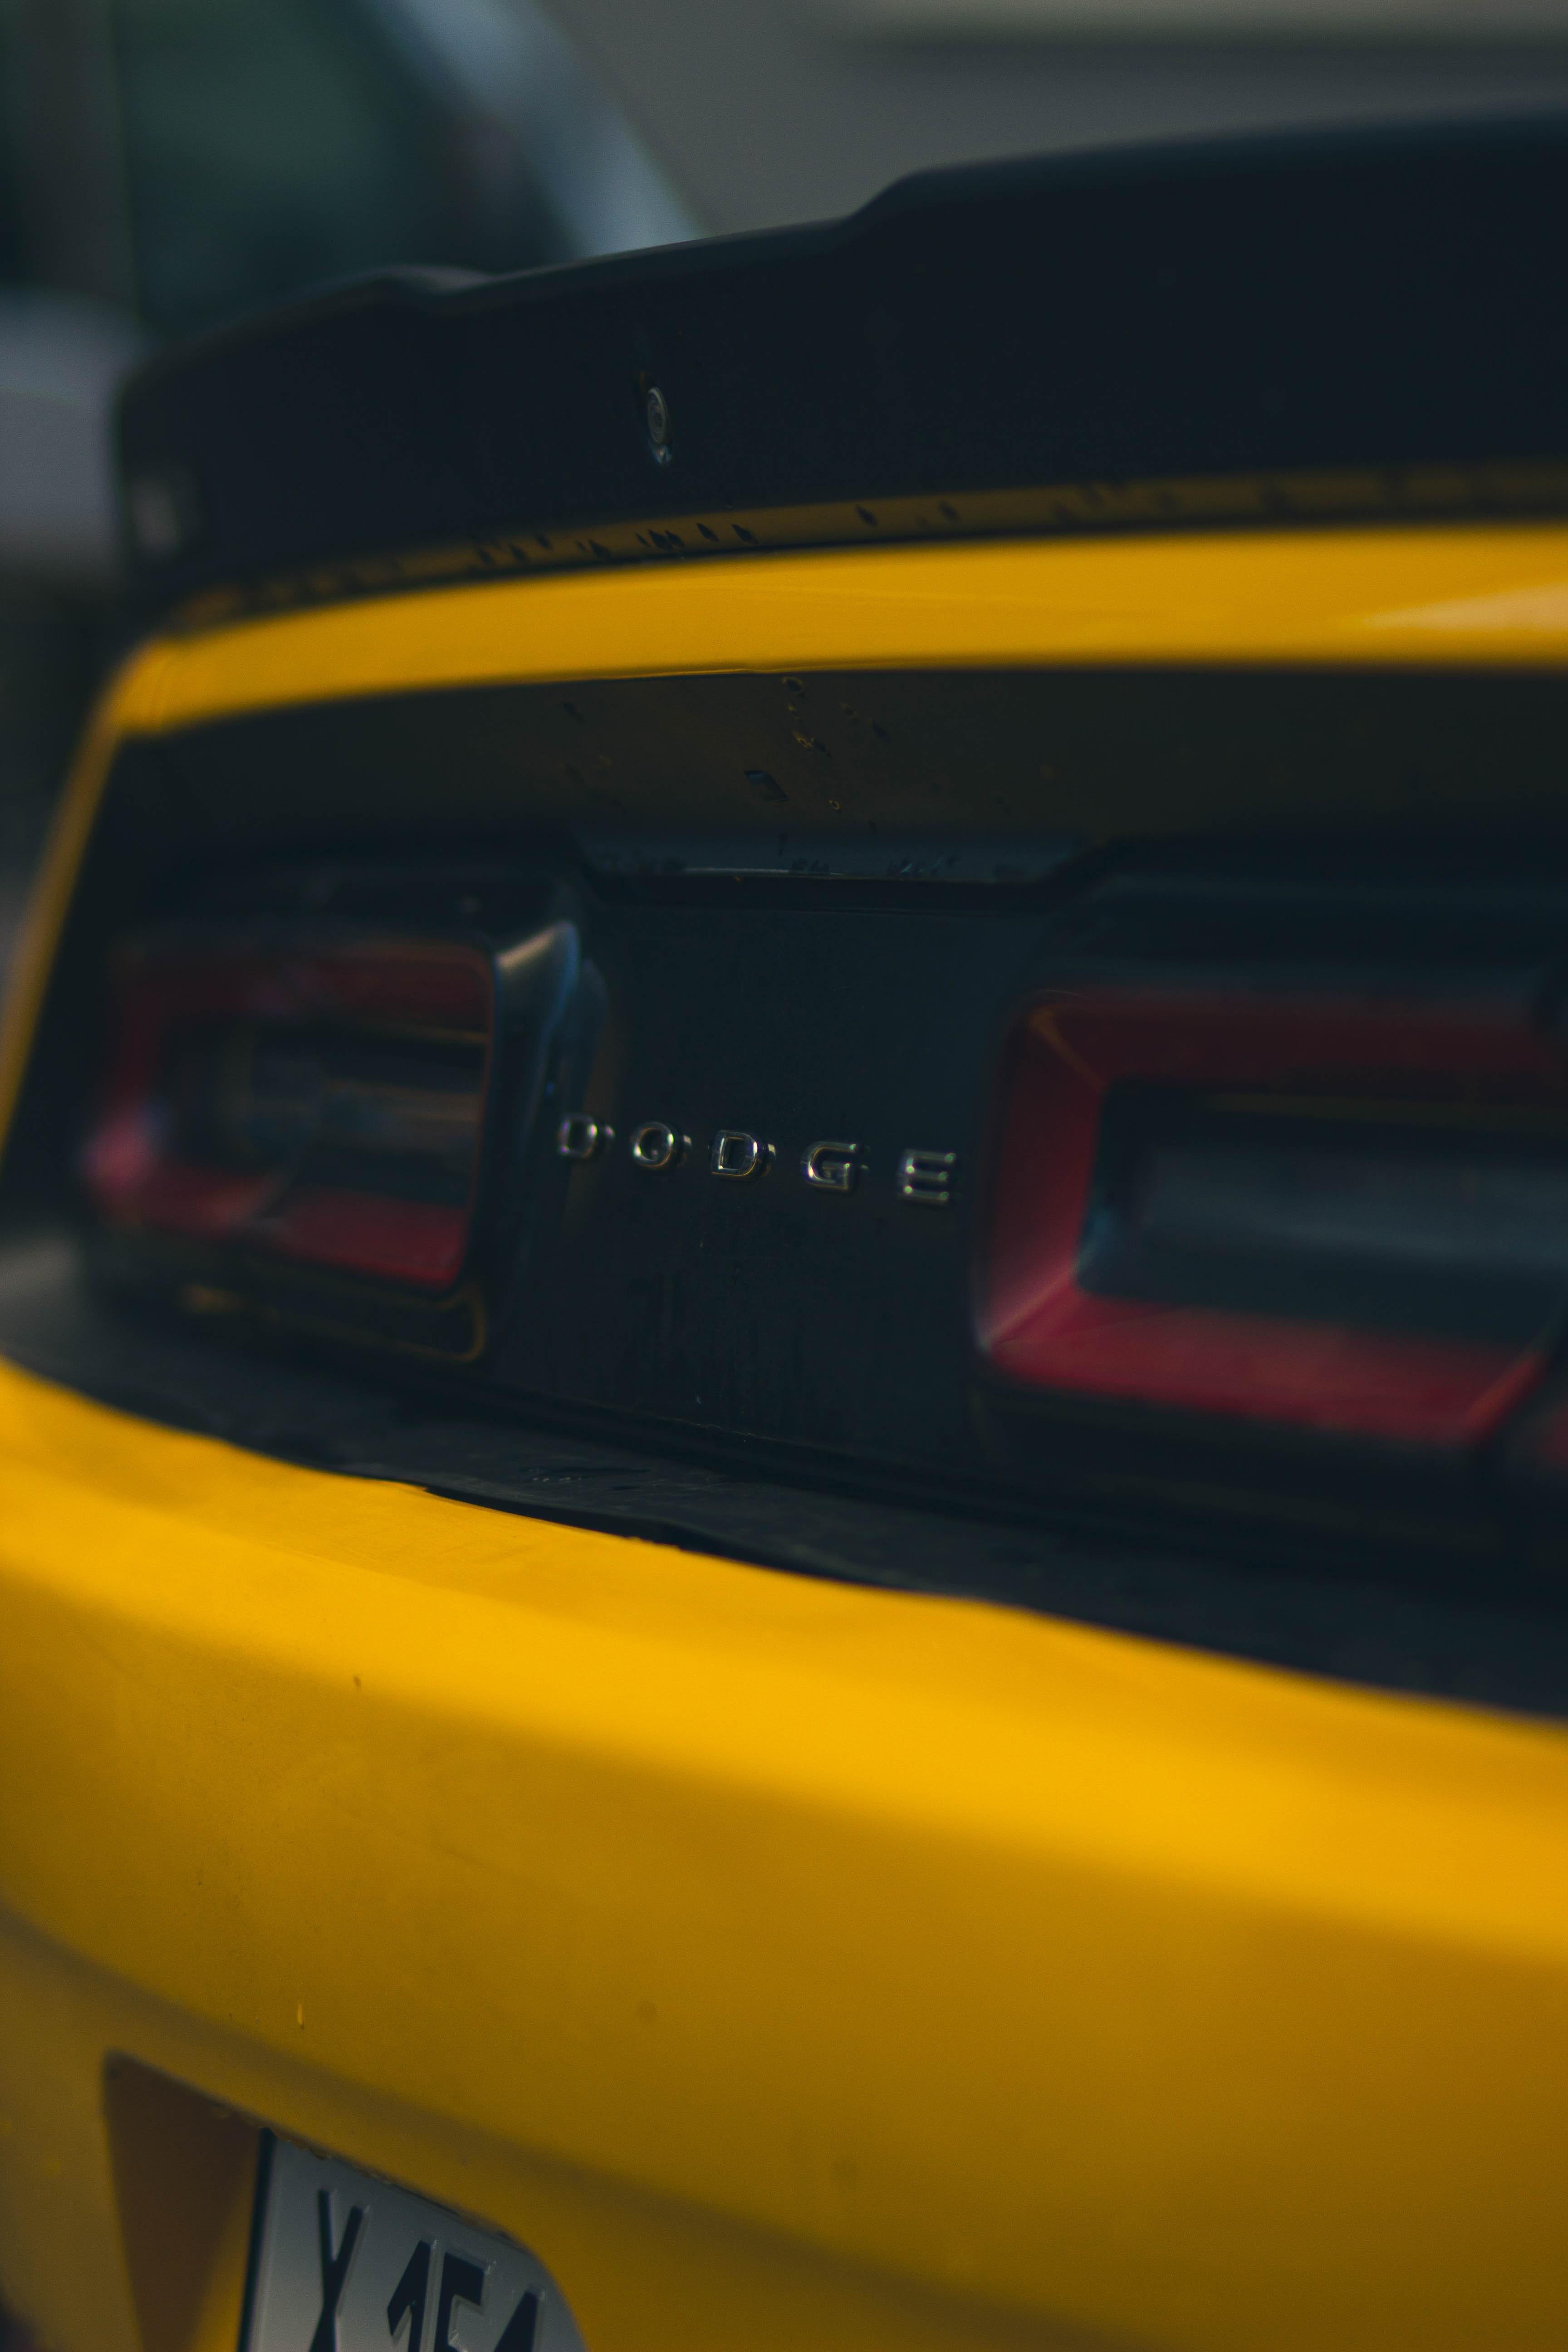dodge: (527, 1048, 1004, 1267)
